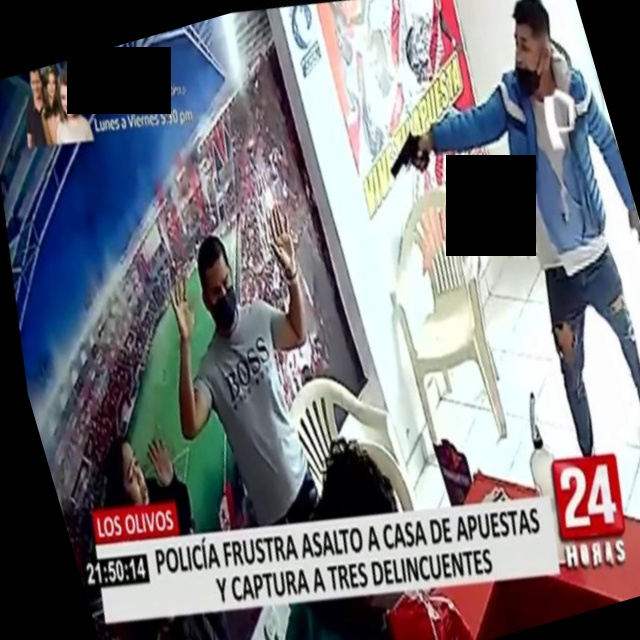gun: (363, 102, 450, 203)
